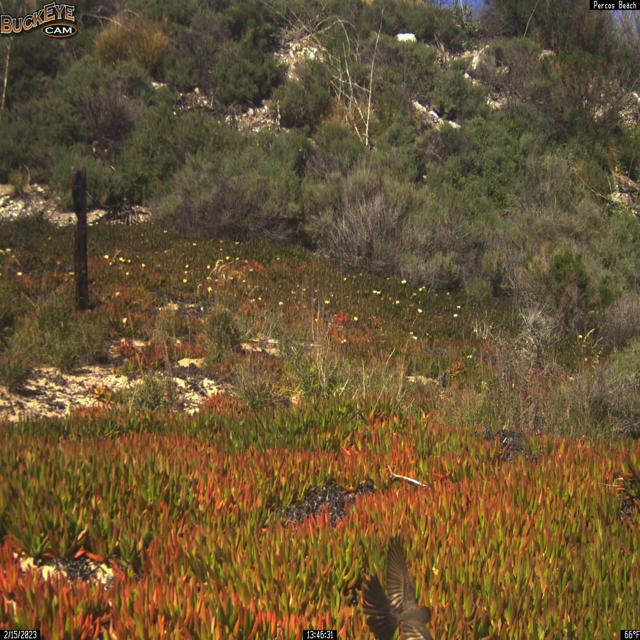bird: (358, 534, 447, 640)
